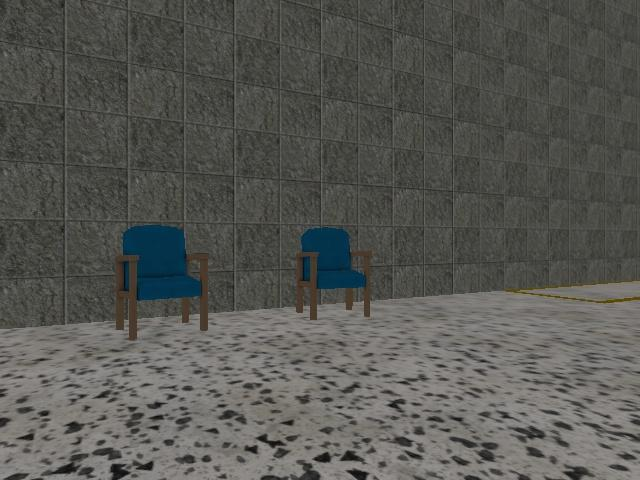chair: (114, 225, 210, 340), (296, 227, 372, 320)
